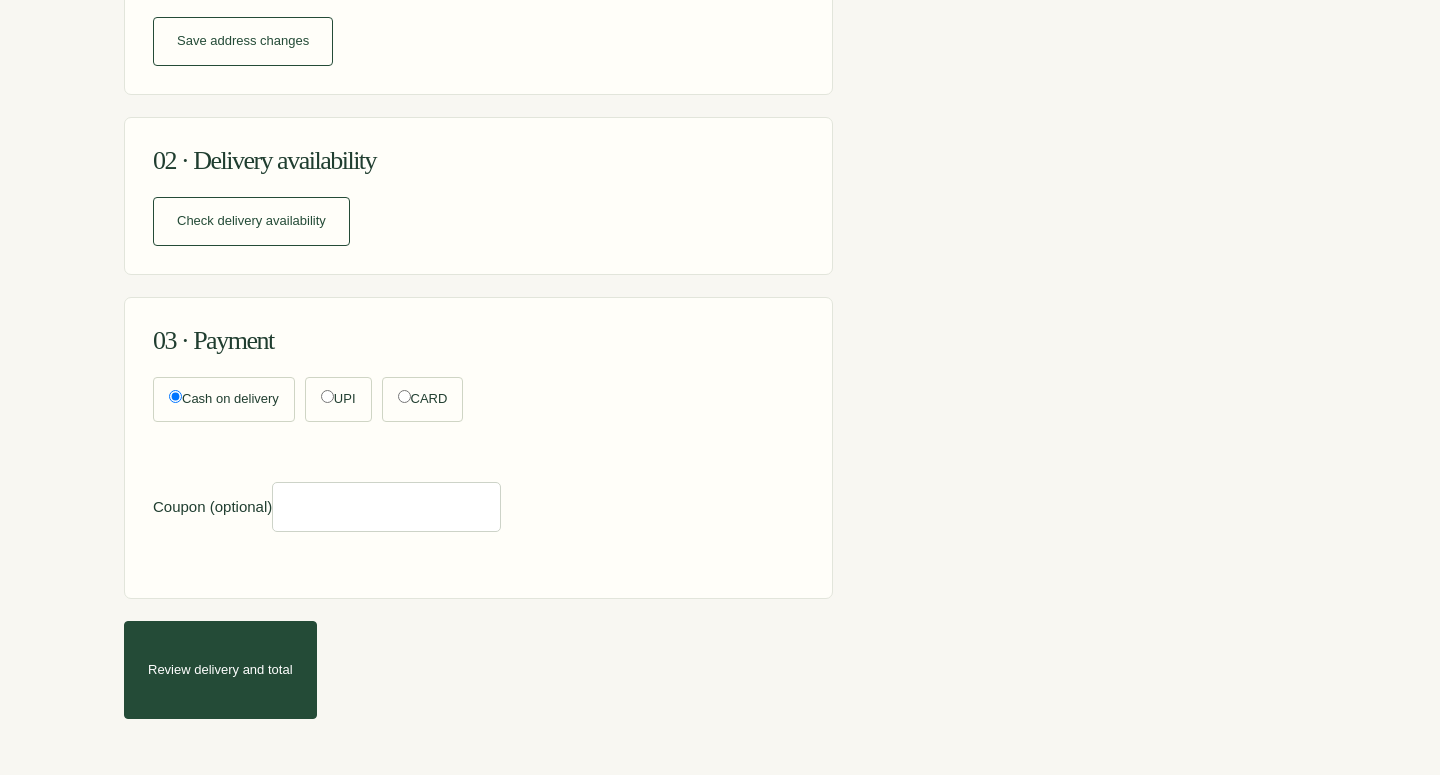
it: backend delivery checkout › keeps one saved order and reuses its payment-session key after a payment startup failure
(page scrolled)
Click the radio button labelled "UPI": x=327, y=396 [321,390,334,403]
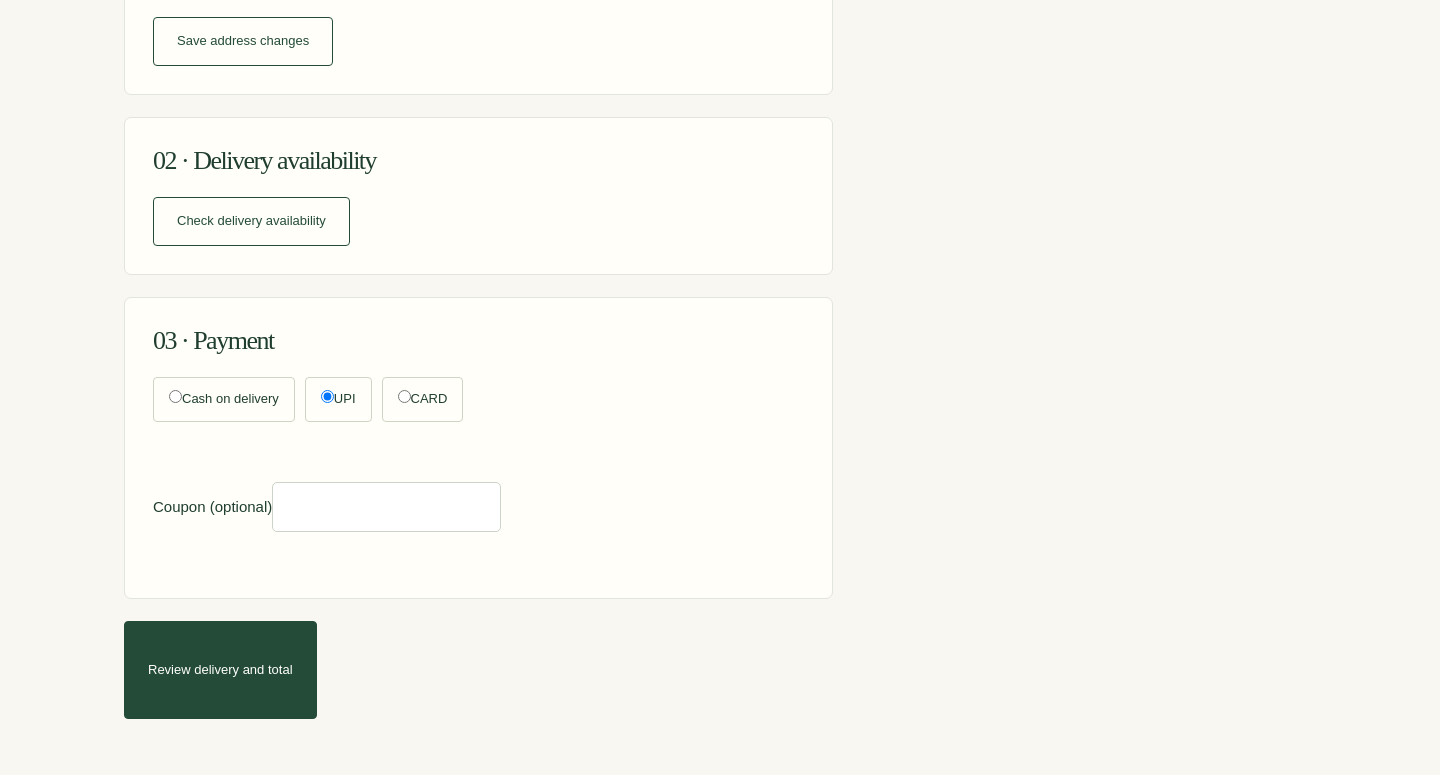
Click the button "Check delivery availability": x=251, y=221 [153,197,350,246]
(page scrolled)
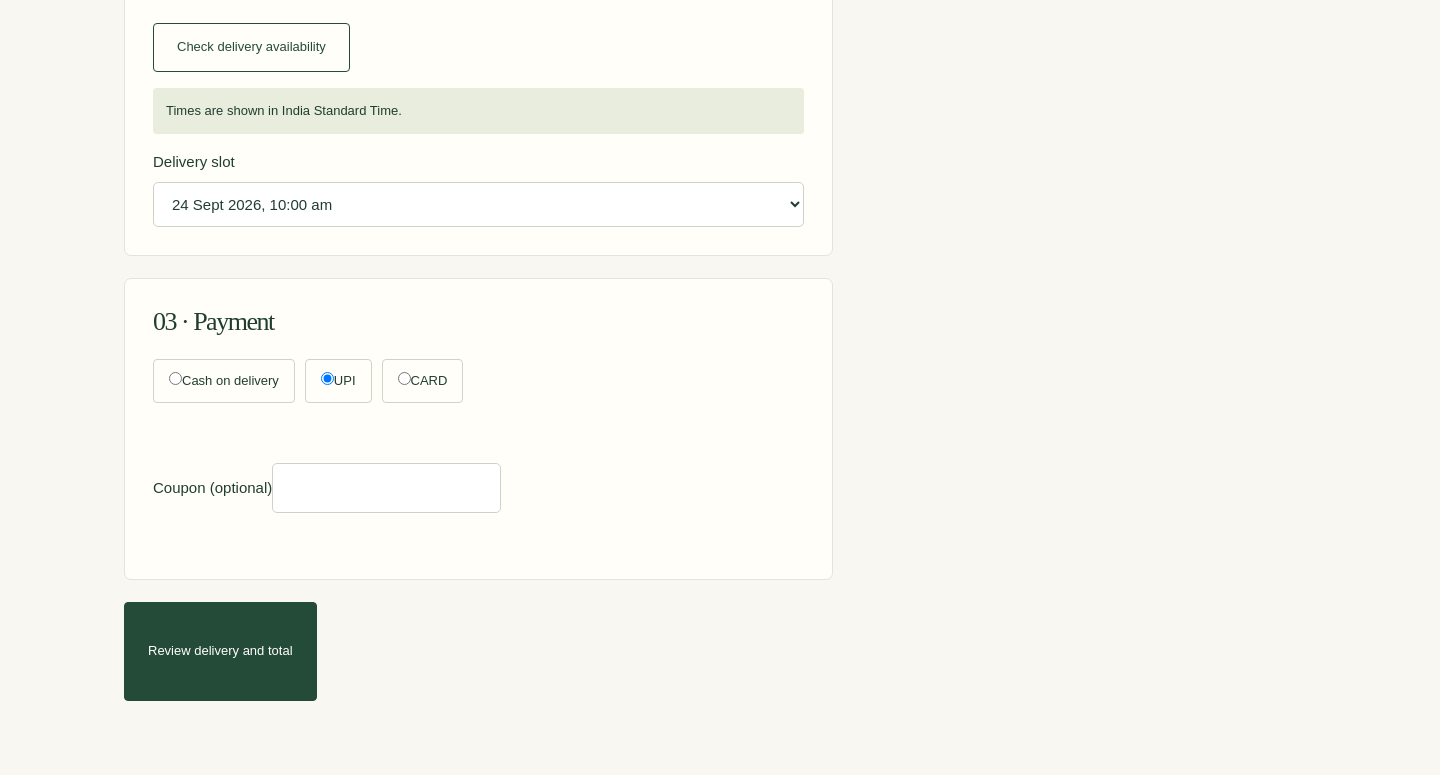
Expected: the dropdown labelled "Delivery slot" is shown, [153,182,804,227]
Click the button "Review delivery and total": x=220, y=652 [124,602,316,701]
(page scrolled)
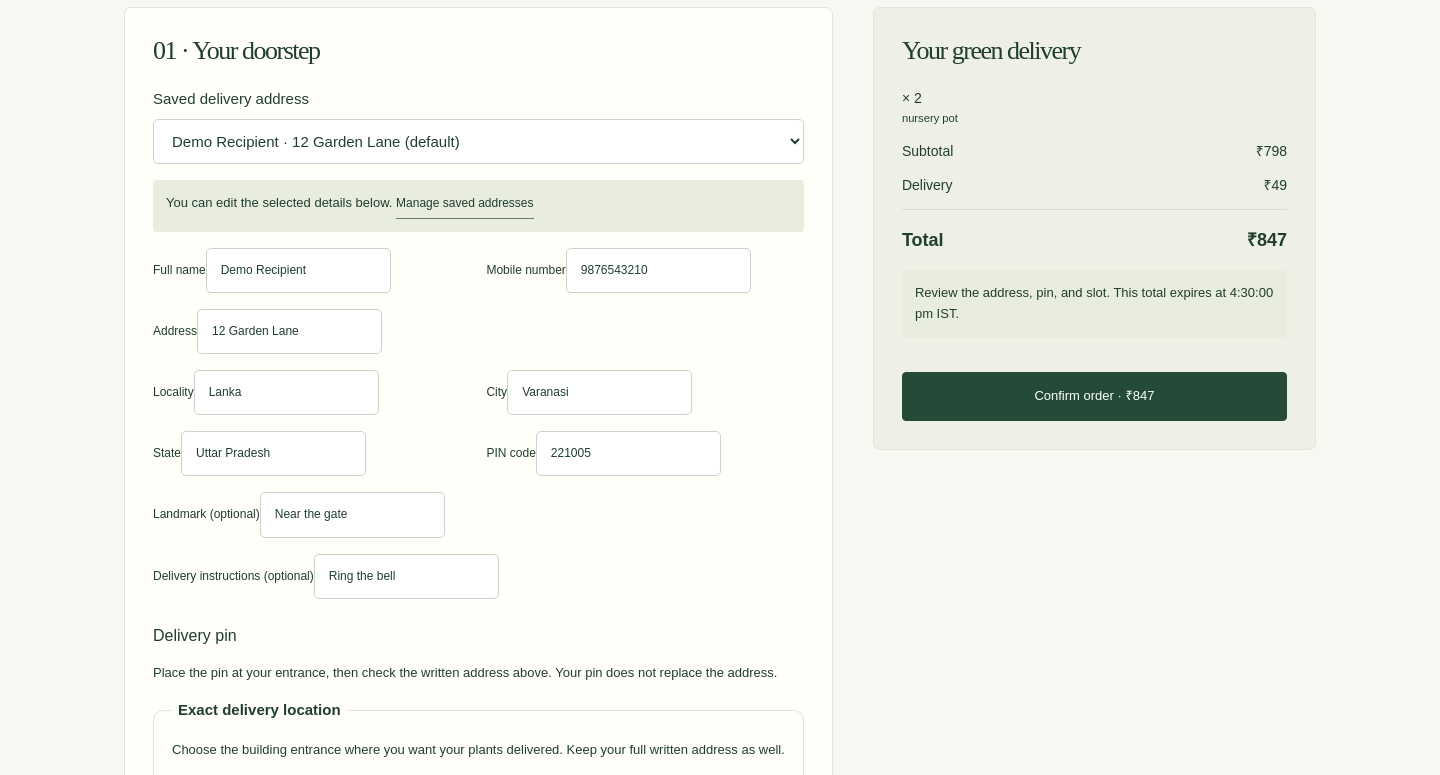
Click the button "Confirm order · ₹847": x=1094, y=396 [902,372,1287,421]
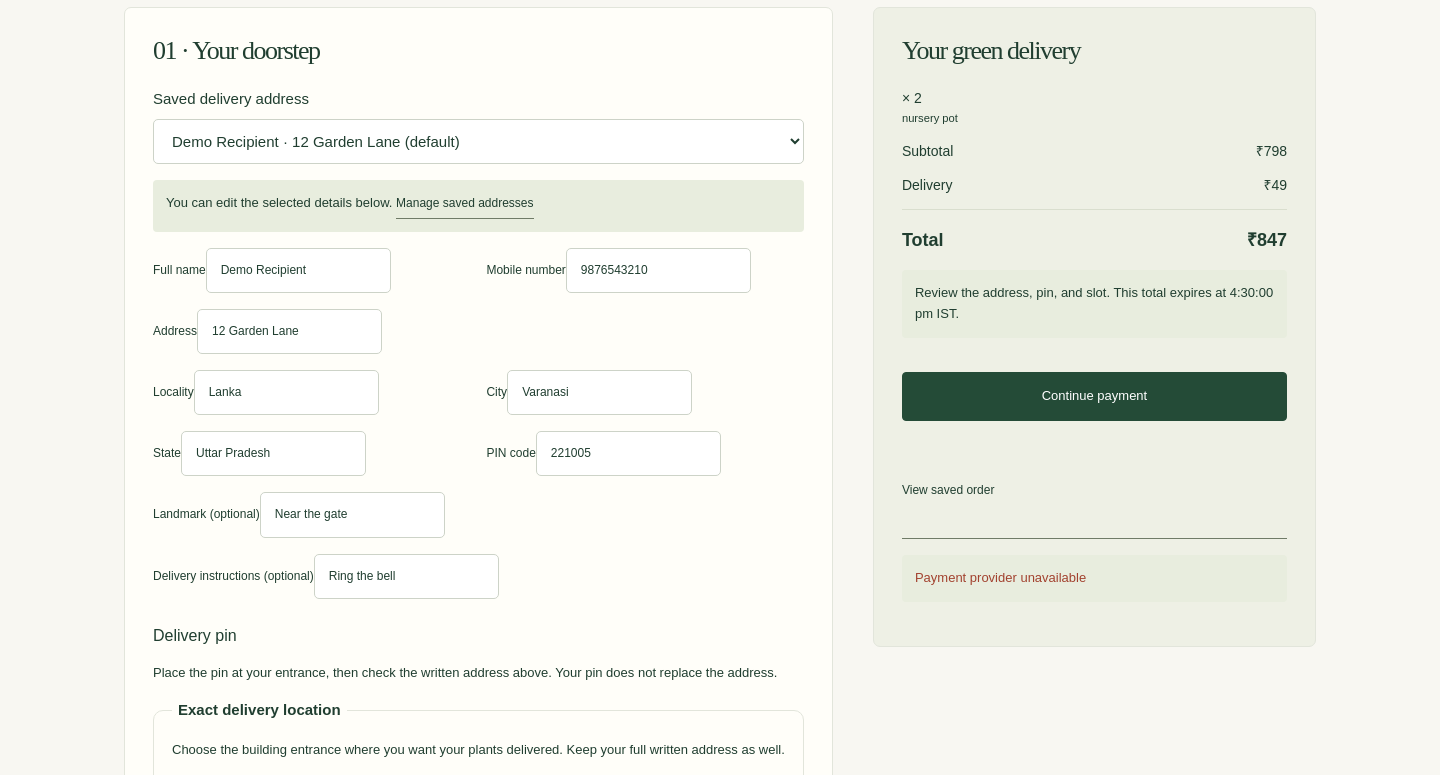
Expected: the message reads "Payment provider unavailable", [915,570,1086,585]
Click the button "Continue payment": x=1094, y=396 [902,372,1287,421]
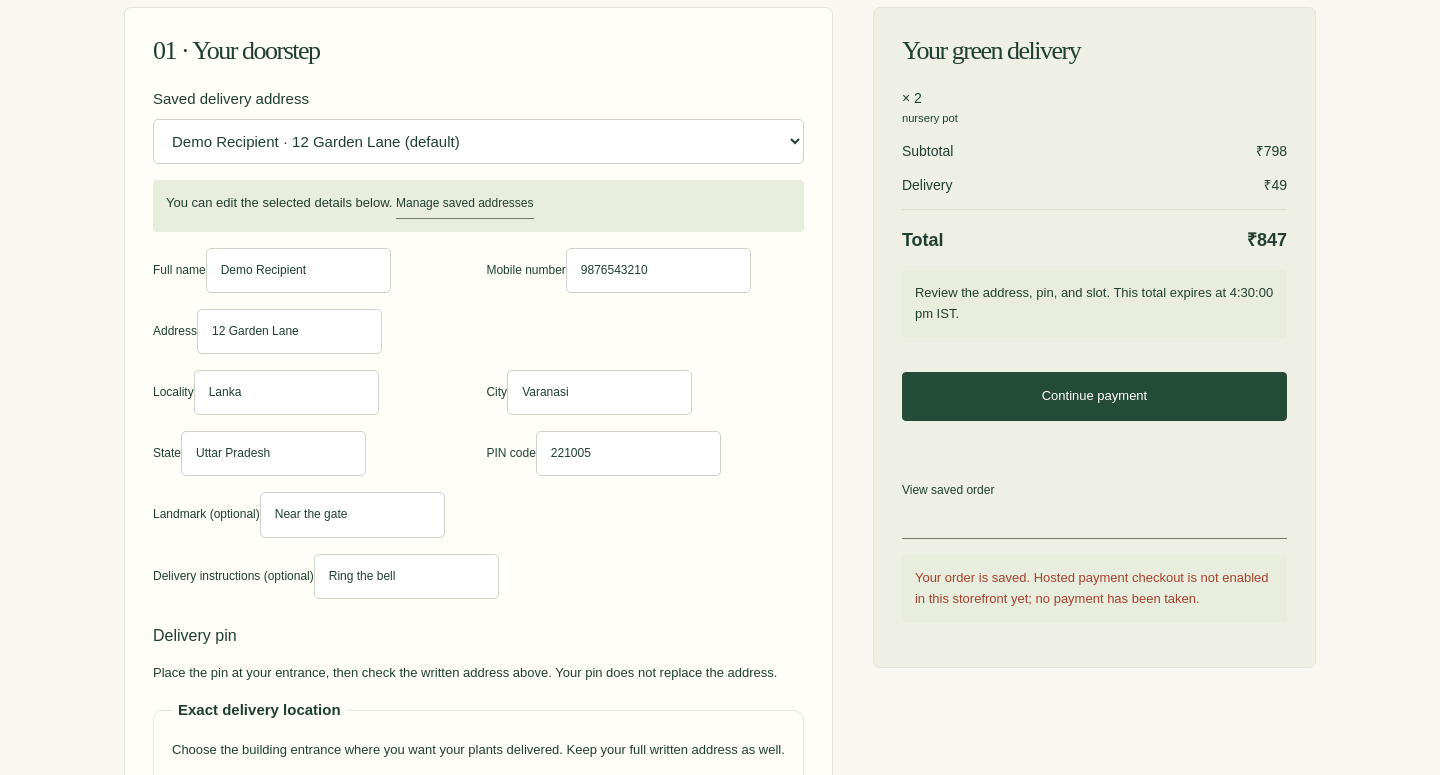
Expected: the text "Hosted payment checkout is not enabled" is shown, [915,570,1268,606]
